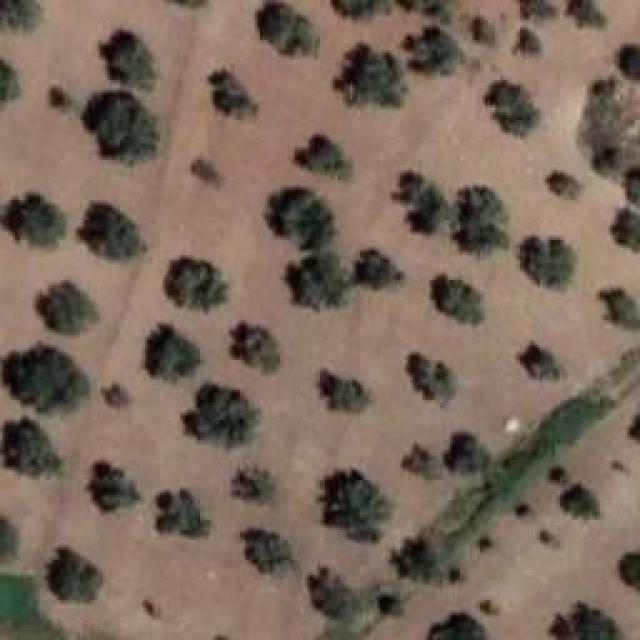Tree: (3, 348, 89, 414), (83, 93, 159, 165), (320, 470, 391, 543), (182, 385, 260, 450), (335, 45, 408, 107), (265, 188, 336, 251), (285, 250, 349, 310), (453, 185, 509, 253), (0, 192, 66, 247), (80, 203, 143, 260), (393, 173, 448, 236), (100, 30, 155, 92), (258, 3, 321, 56), (35, 283, 99, 335), (5, 418, 63, 475), (145, 325, 201, 382), (168, 260, 228, 311), (48, 547, 103, 602), (485, 83, 539, 136), (405, 25, 464, 73), (308, 568, 359, 620), (88, 464, 141, 514), (523, 237, 576, 287), (155, 490, 210, 538), (230, 323, 280, 375), (410, 355, 456, 407), (295, 135, 350, 178), (208, 73, 258, 120), (435, 278, 482, 325), (353, 250, 404, 290), (393, 535, 437, 581), (243, 530, 290, 573), (320, 370, 368, 412), (445, 434, 491, 474), (570, 605, 618, 640), (430, 613, 489, 640), (233, 470, 277, 505), (560, 485, 603, 520), (518, 343, 557, 381), (603, 288, 636, 329), (610, 208, 640, 251), (403, 445, 438, 480), (0, 0, 41, 29), (333, 0, 392, 19), (568, 0, 608, 28), (545, 170, 583, 198), (0, 60, 19, 103), (617, 45, 640, 80), (620, 552, 640, 590), (512, 28, 540, 55), (2, 518, 20, 560), (520, 0, 557, 19), (103, 384, 131, 408), (473, 18, 494, 45), (50, 88, 73, 109), (378, 595, 401, 615), (627, 412, 640, 440), (548, 468, 567, 486), (480, 600, 499, 616), (478, 537, 493, 552), (398, 0, 418, 11), (515, 505, 531, 518), (540, 530, 553, 543), (450, 568, 460, 584)
